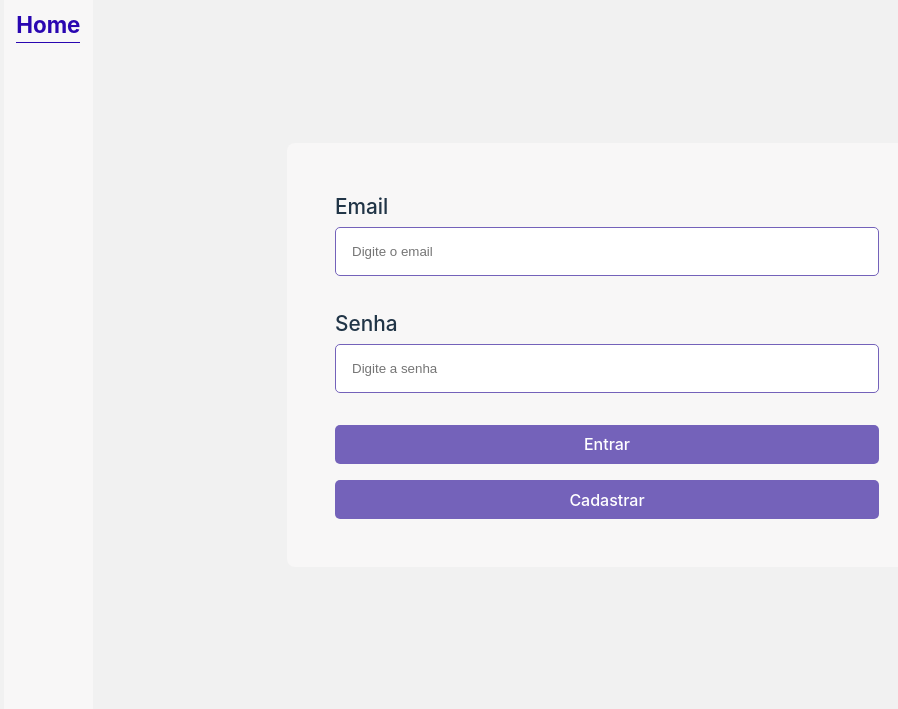
Test case: Login Page › should not redirect to the home page after an unsuccessful login
Type "gui@gmail.com" into the field with placeholder "Digite o email" at {"x": 607, "y": 251}, box [335, 227, 879, 276]
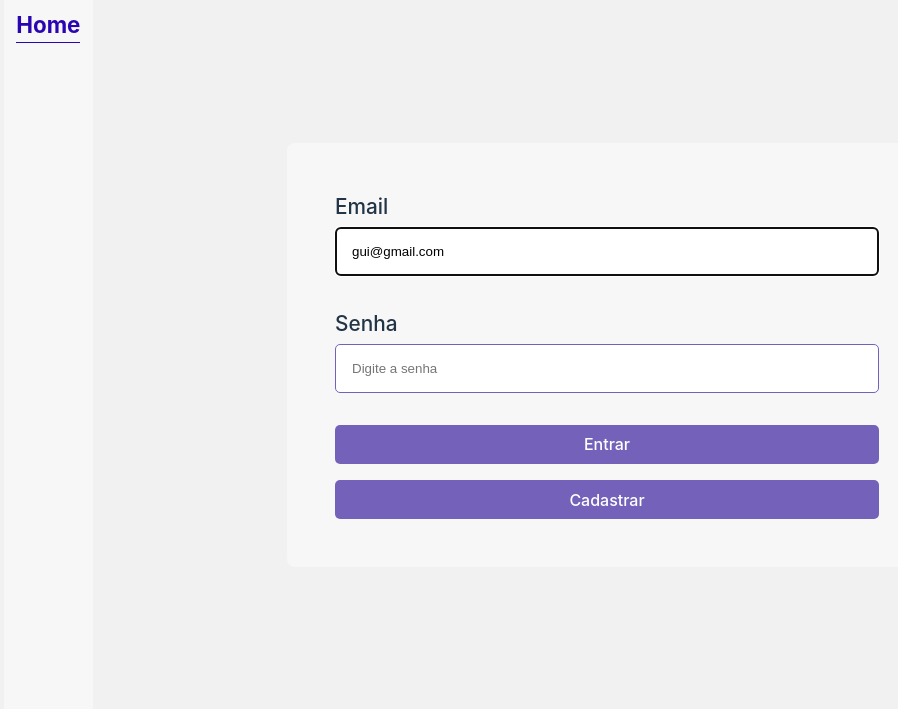
Type "123456" into the password field with placeholder "Digite a senha" at {"x": 607, "y": 368}, box [335, 344, 879, 393]
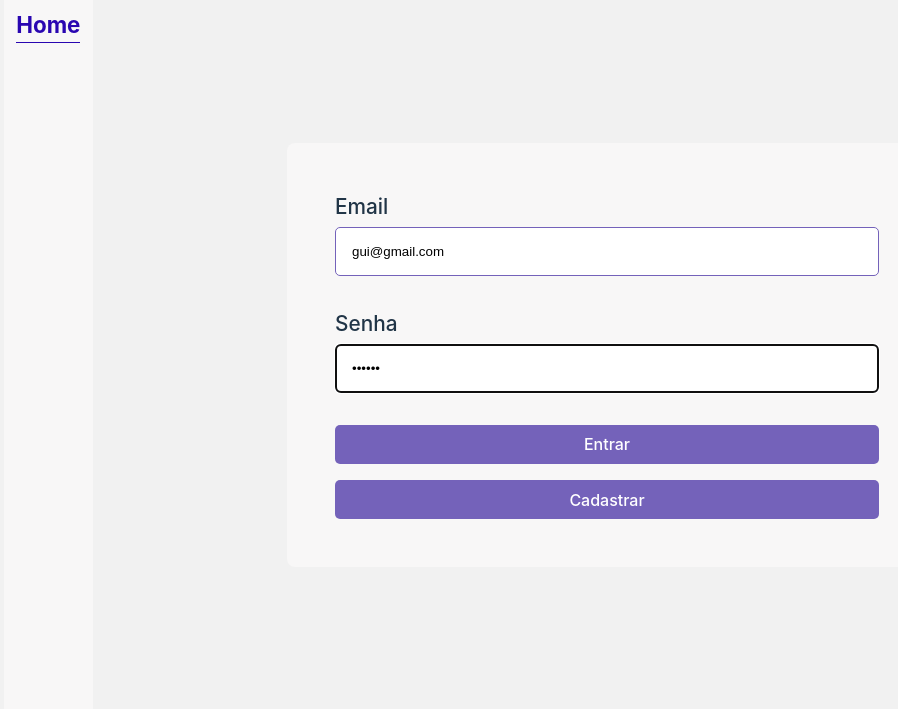
Click the button "Entrar" at {"x": 607, "y": 444}, box [335, 425, 879, 464]
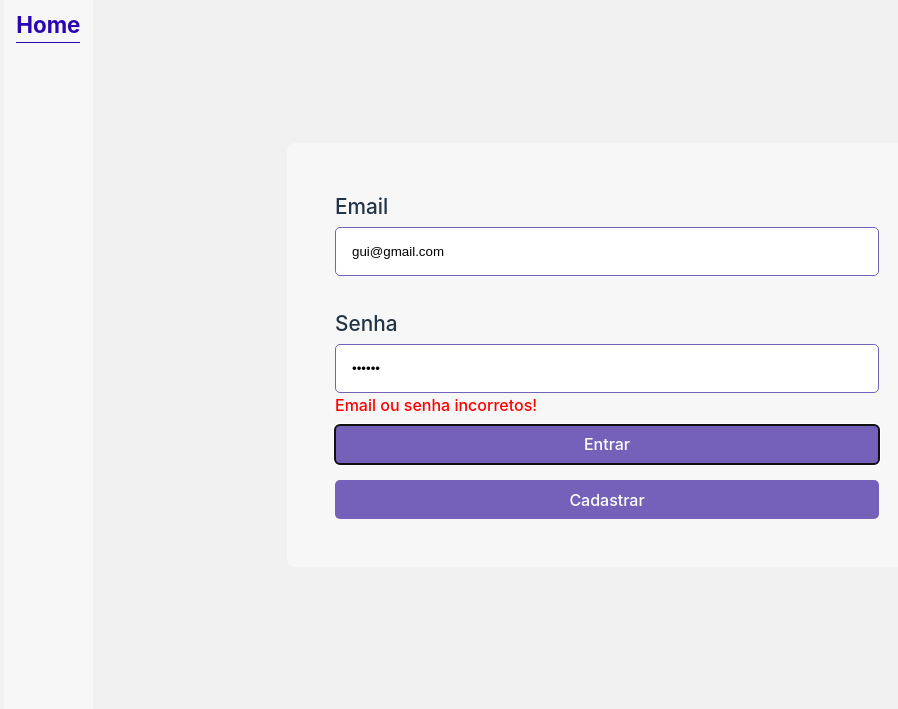
Result: the text "Email ou senha incorretos!" is shown at [335, 393, 537, 417]
